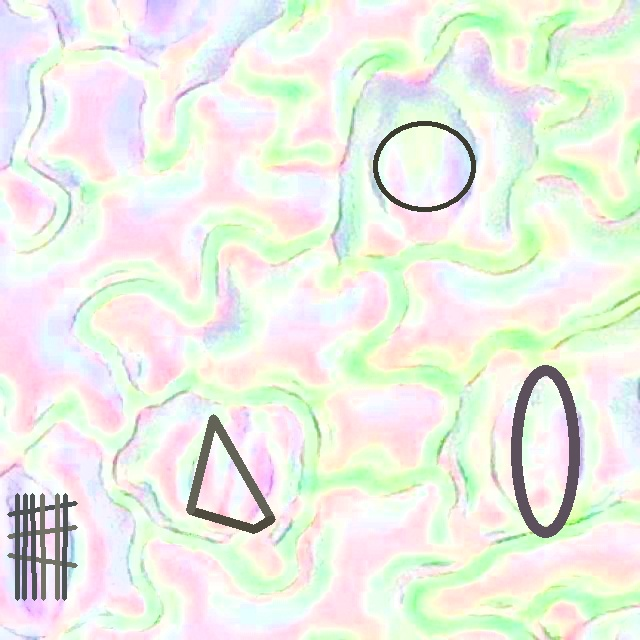open: (510, 365, 580, 537), (186, 414, 275, 533), (372, 120, 477, 213), (7, 493, 77, 600)
